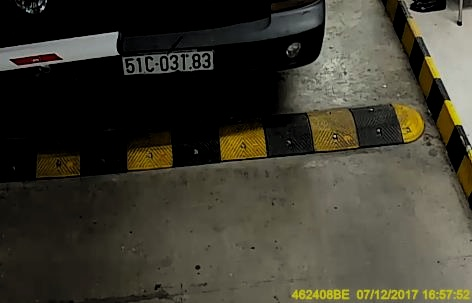plate: (118, 48, 225, 78)
